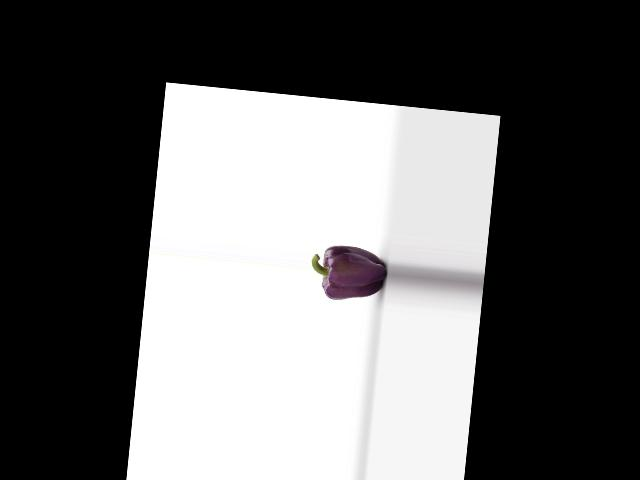bell_pepper: (308, 236, 387, 308)
